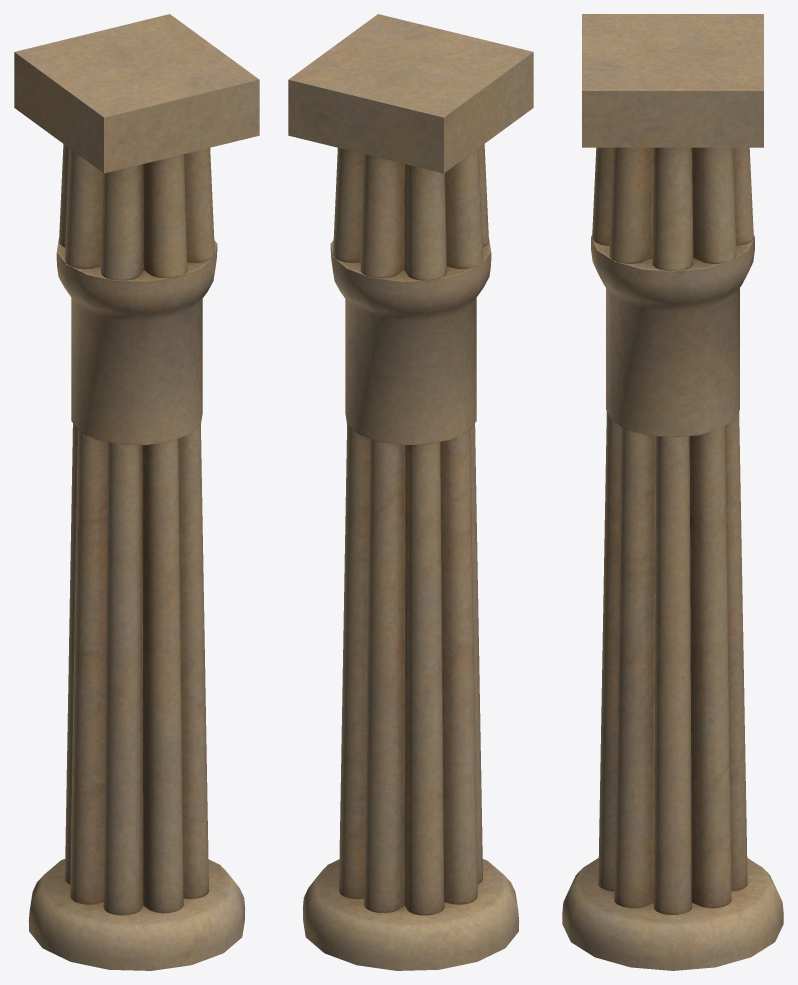
Rendered from lotus-column.obj.
3 renders of one model, left to right at view 1: azimuth 30°, elevation 25°; view 2: azimuth 150°, elevation 25°; view 3: azimuth 270°, elevation 25°, orthographic.
Parts seen in each view (by area): view 1: Lotus-column; view 2: Lotus-column; view 3: Lotus-column.
Boxes of the visible parts, left/top/right/bottom form: Lotus-column: left=14, top=14, right=259, bottom=970; Lotus-column: left=288, top=14, right=533, bottom=970; Lotus-column: left=562, top=14, right=783, bottom=970.
Bounding box in the file's own units: 1.84 × 8.01 × 1.84.
1 material, 1 textured.
